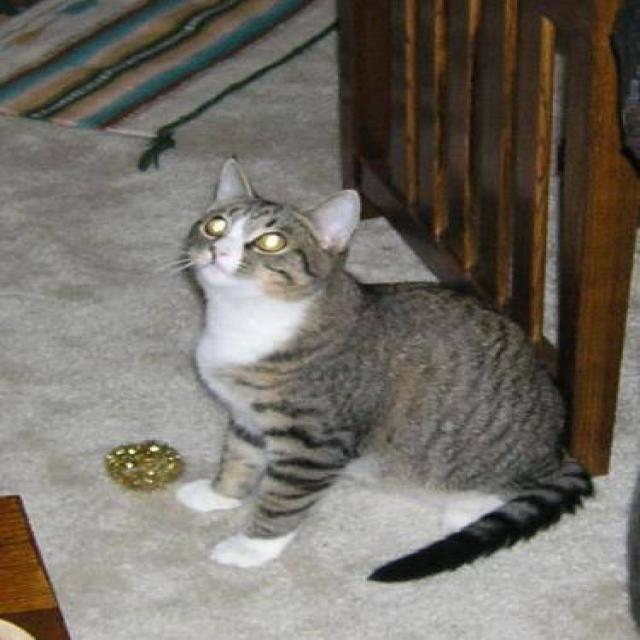cat: (162, 154, 596, 583)
